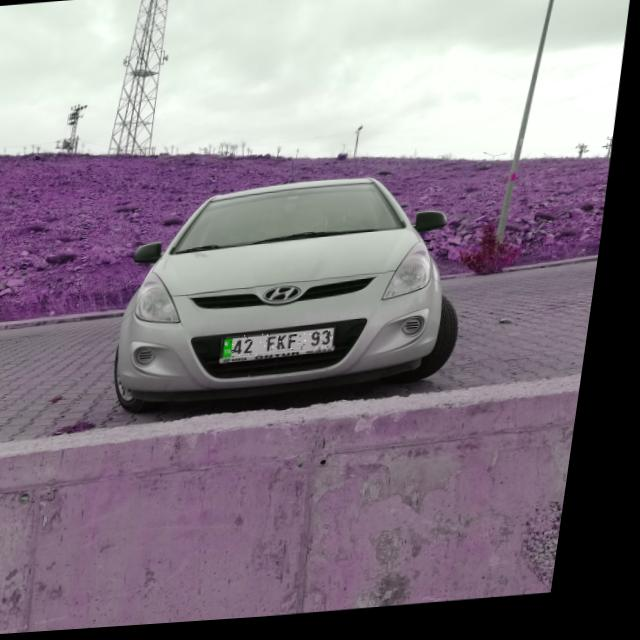license_plate: (233, 333, 346, 363)
